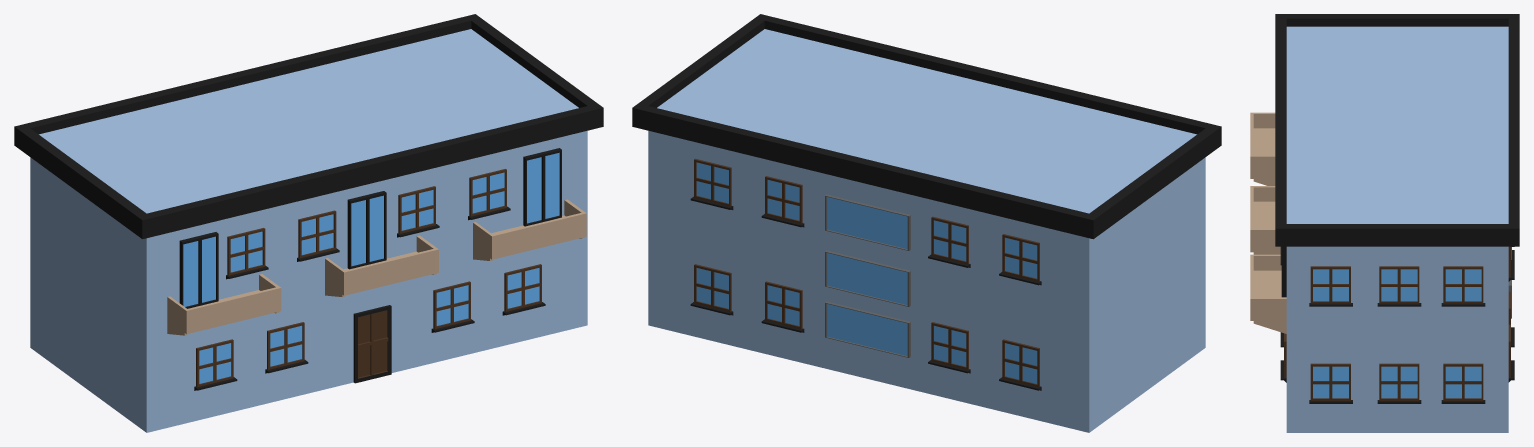
File: cityasset_house_5.fbx
3 views of the same model, side by side, from view 1: azimuth 30°, elevation 25°; view 2: azimuth 150°, elevation 25°; view 3: azimuth 270°, elevation 25° (orthographic). The views are drawn at different scales.
Parts seen in each view (by area): view 1: Cube.002, Cube.003, Cube.001, Cube.008, Cube.007, Cube.011, Cube.005, Cube.009, Cube.013, Cube.012, Cube.015, Cube.016 (+4 smaller); view 2: Cube.002, Cube.006, Cube.035, Cube.034, Cube.026, Cube.031, Cube.027, Cube.028, Cube.029, Cube.033, Cube.030, Cube.032; view 3: Cube.002, Cube.008, Cube.003, Cube.001, Cube.024, Cube.025, Cube.021, Cube.022, Cube.023, Cube.020, Cube.005.
Boxes of the visible parts, x1=… form: Cube.002: x1=14, y1=14, x2=603, y2=432; Cube.003: x1=167, y1=274, x2=281, y2=335; Cube.001: x1=325, y1=235, x2=438, y2=296; Cube.008: x1=473, y1=199, x2=586, y2=260; Cube.007: x1=347, y1=191, x2=386, y2=269; Cube.011: x1=179, y1=232, x2=218, y2=308; Cube.005: x1=523, y1=148, x2=561, y2=226; Cube.009: x1=353, y1=305, x2=391, y2=383; Cube.013: x1=297, y1=210, x2=339, y2=261; Cube.012: x1=226, y1=228, x2=268, y2=279; Cube.015: x1=265, y1=322, x2=308, y2=373; Cube.016: x1=431, y1=281, x2=474, y2=332; Cube.002: x1=632, y1=14, x2=1221, y2=432; Cube.006: x1=825, y1=301, x2=910, y2=357; Cube.035: x1=825, y1=194, x2=910, y2=250; Cube.034: x1=825, y1=250, x2=910, y2=306; Cube.026: x1=690, y1=264, x2=733, y2=315; Cube.031: x1=761, y1=176, x2=804, y2=227; Cube.027: x1=761, y1=281, x2=804, y2=332; Cube.028: x1=928, y1=322, x2=970, y2=373; Cube.029: x1=999, y1=339, x2=1041, y2=390; Cube.033: x1=999, y1=234, x2=1041, y2=285; Cube.030: x1=690, y1=158, x2=733, y2=209; Cube.032: x1=928, y1=216, x2=970, y2=267; Cube.002: x1=1275, y1=14, x2=1519, y2=432; Cube.008: x1=1250, y1=254, x2=1286, y2=333; Cube.003: x1=1250, y1=112, x2=1275, y2=185; Cube.001: x1=1250, y1=186, x2=1280, y2=254; Cube.024: x1=1377, y1=266, x2=1421, y2=306; Cube.025: x1=1441, y1=266, x2=1485, y2=306; Cube.021: x1=1377, y1=363, x2=1421, y2=403; Cube.022: x1=1441, y1=363, x2=1485, y2=403; Cube.023: x1=1309, y1=266, x2=1352, y2=306; Cube.020: x1=1309, y1=363, x2=1352, y2=403; Cube.005: x1=1281, y1=246, x2=1286, y2=297.
Size of the model in its own units: 457 by 208 by 243.
